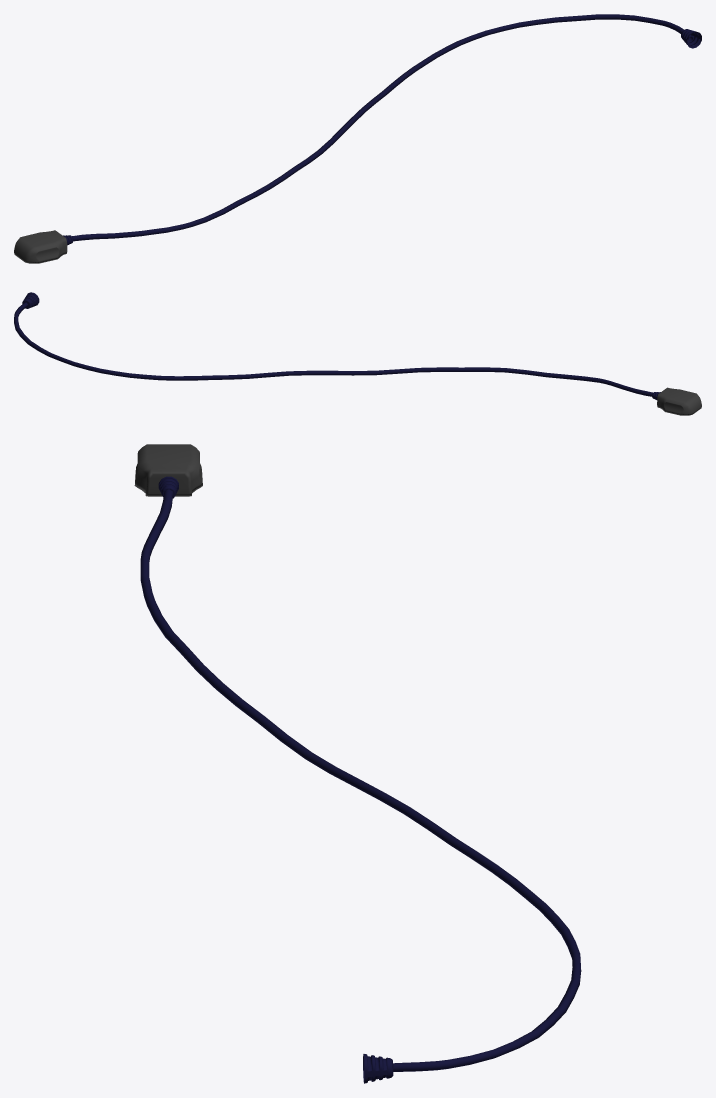
The model's file is PlugCable_06_Mesh.fbx.
The picture shows the model from 3 angles, top to bottom: view 1: azimuth 30°, elevation 25°; view 2: azimuth 150°, elevation 25°; view 3: azimuth 270°, elevation 25°; orthographic projection. The views are drawn at different scales.
Visible parts, largest first — view 1: PlugCable_06_Mesh; view 2: PlugCable_06_Mesh; view 3: PlugCable_06_Mesh.
Part boxes in pixels (x1=…): PlugCable_06_Mesh: x1=14, y1=14, x2=701, y2=263; PlugCable_06_Mesh: x1=14, y1=292, x2=701, y2=415; PlugCable_06_Mesh: x1=134, y1=444, x2=581, y2=1083.
Size of the model in its own units: 112 by 3.7 by 34.85.
